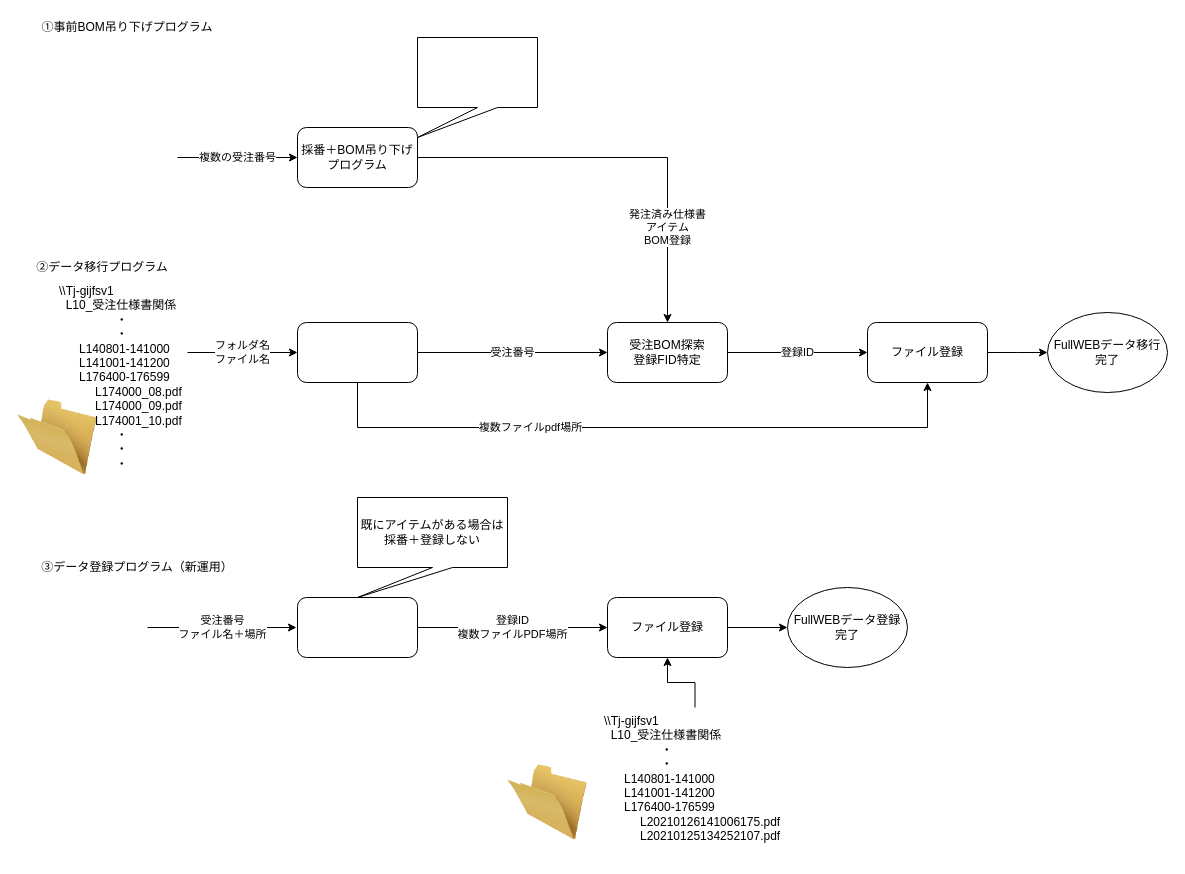
Image size: 1185x874. Some labels were removed from this diagram. The centre of each missing label's shape, as x and y in pixels:
"pdfデータ探索 ＋ ファイル名から 受注番号抽出" goes at (x=357, y=352).
"けんたろう移行プログラムと同期" goes at (x=477, y=87).
"採番＋BOM吊り下げ 登録PDF選択 プログラム" goes at (x=357, y=627).
